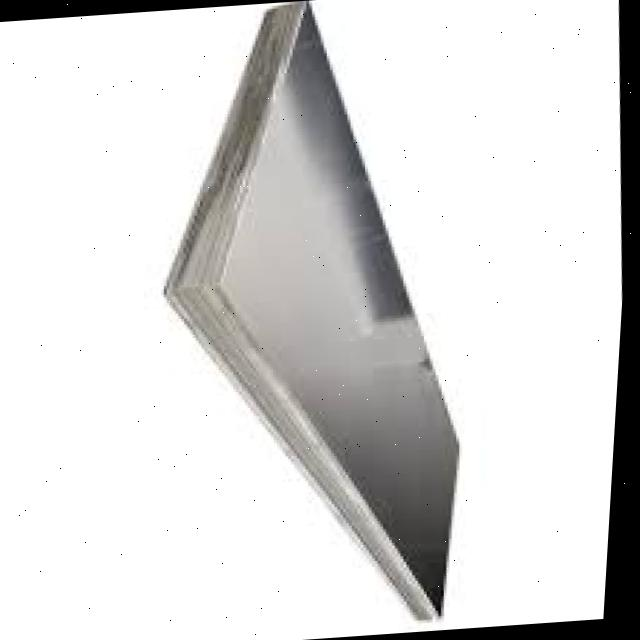Dry: (163, 2, 463, 623)
